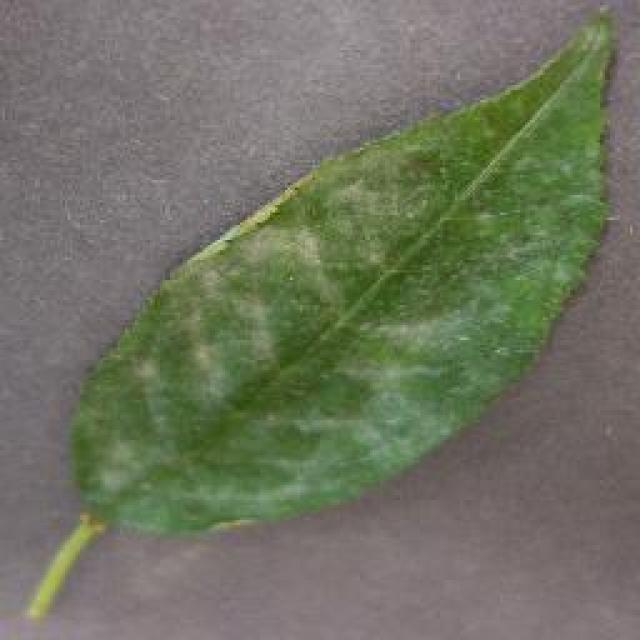Cherry___Powdery_mildew: (7, 10, 625, 638)
